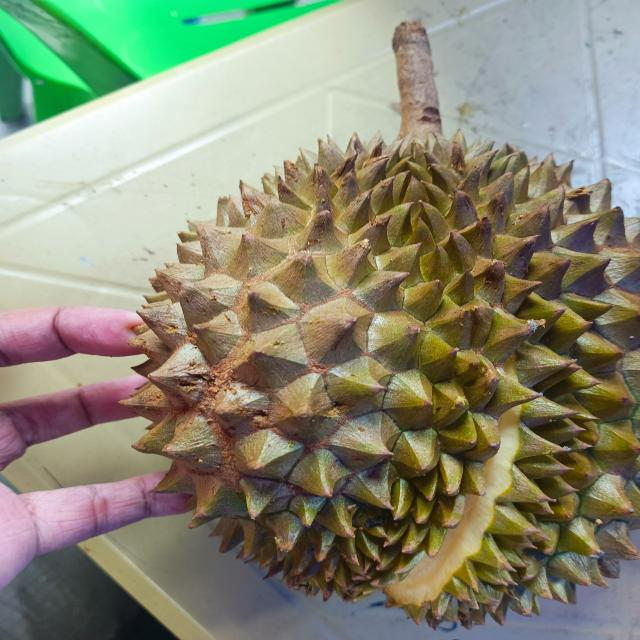defective: (124, 132, 640, 628)
